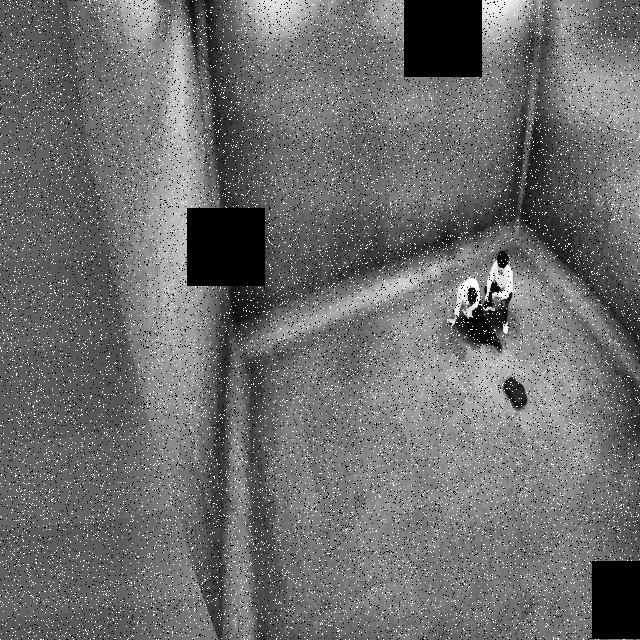assult: (443, 243, 527, 356)
